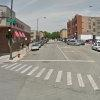Crosswalk: (10, 59, 88, 94)
